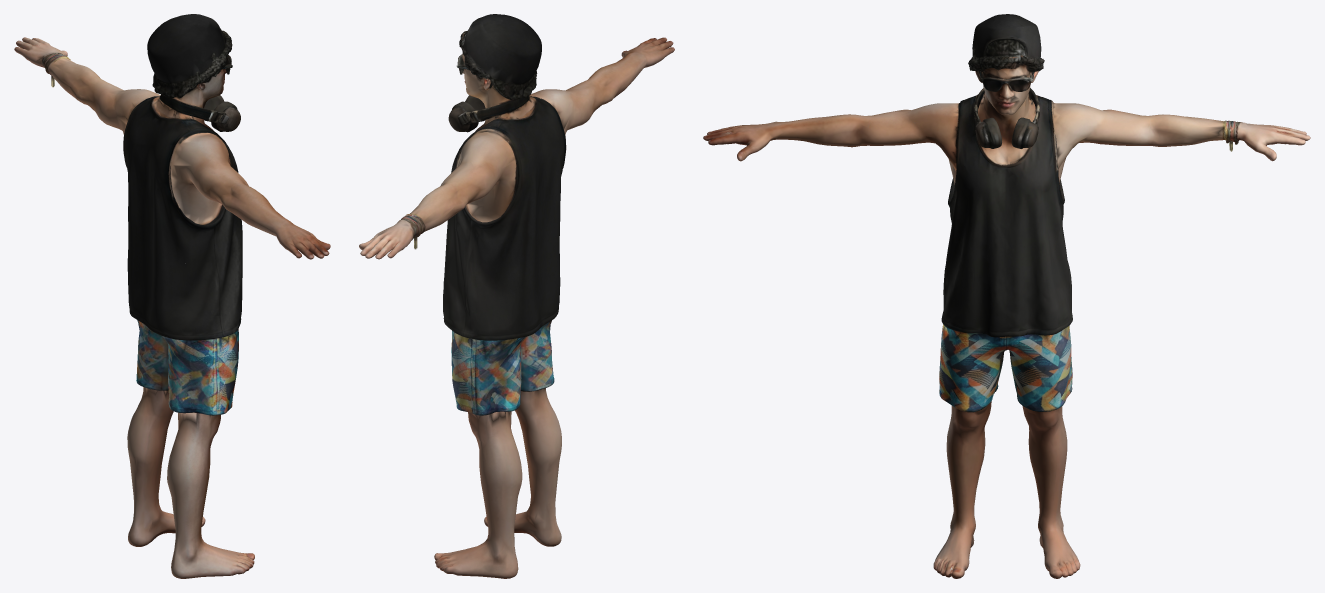
Rendered from the-dj.glb.
3 views of the same model, side by side, from view 1: azimuth 30°, elevation 25°; view 2: azimuth 150°, elevation 25°; view 3: azimuth 270°, elevation 25° (orthographic).
Visible parts, largest first — view 1: the-dj; view 2: the-dj; view 3: the-dj.
Boxes of the visible parts, x1,y1,x2,y2 form: the-dj: [14, 14, 330, 578]; the-dj: [359, 14, 674, 578]; the-dj: [703, 14, 1310, 578].
Bounding box in the file's own units: 0.172 × 0.9767 × 0.9868.
1 material, 1 textured.
